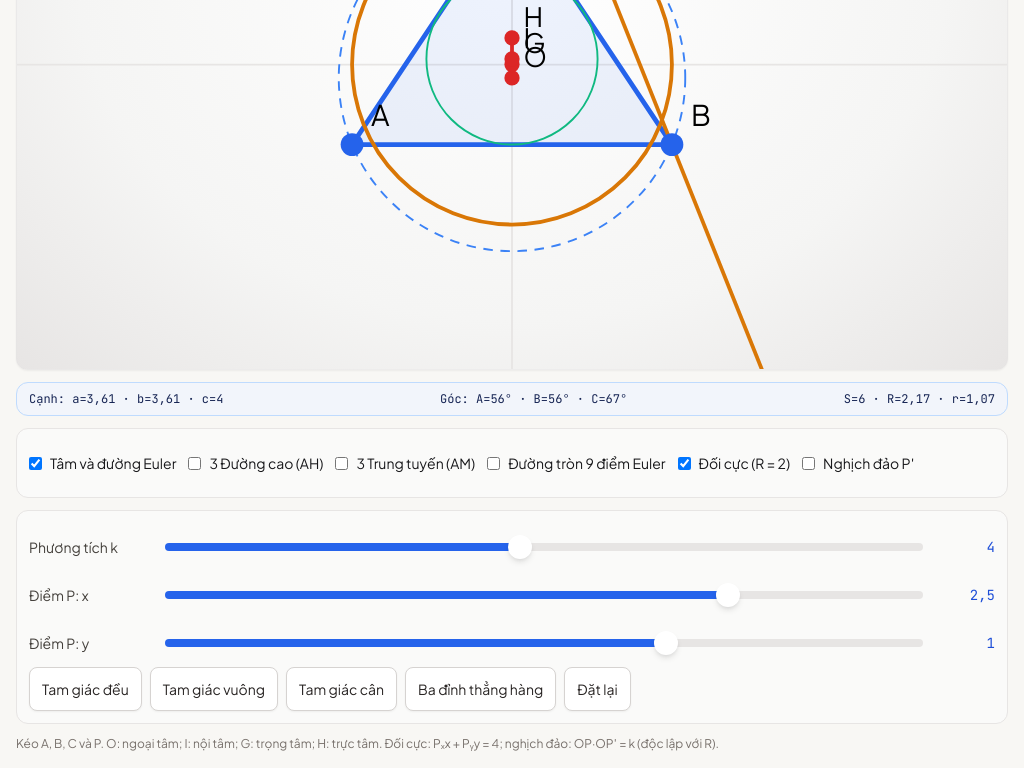
Scenario: Điều khiển và trạng thái biên › hình học động báo thẳng hàng và tâm nghịch đảo không xác định, đặt lại được
(page scrolled)
Click the button "Ba đỉnh thẳng hàng" at (481, 689), box [405,667,556,711]
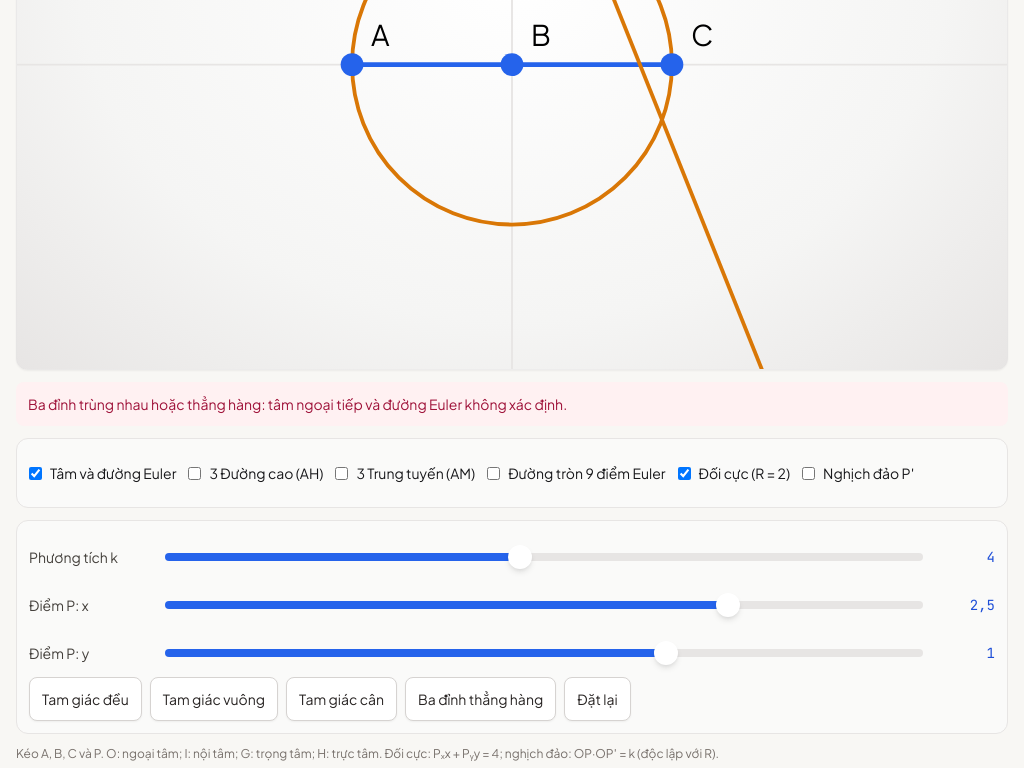
Click the button "Đặt lại" at (597, 699), box [564,677,631,721]
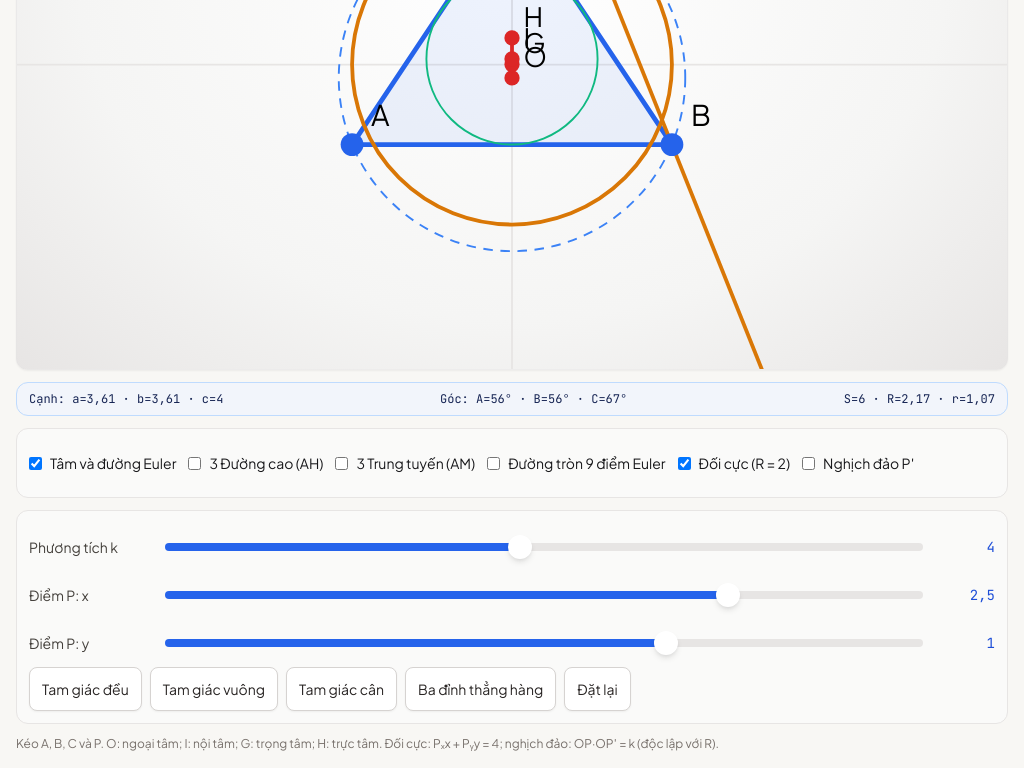
Set the slider with test id "geo-px" to "0" at (544, 595), box [165,591,923,599]
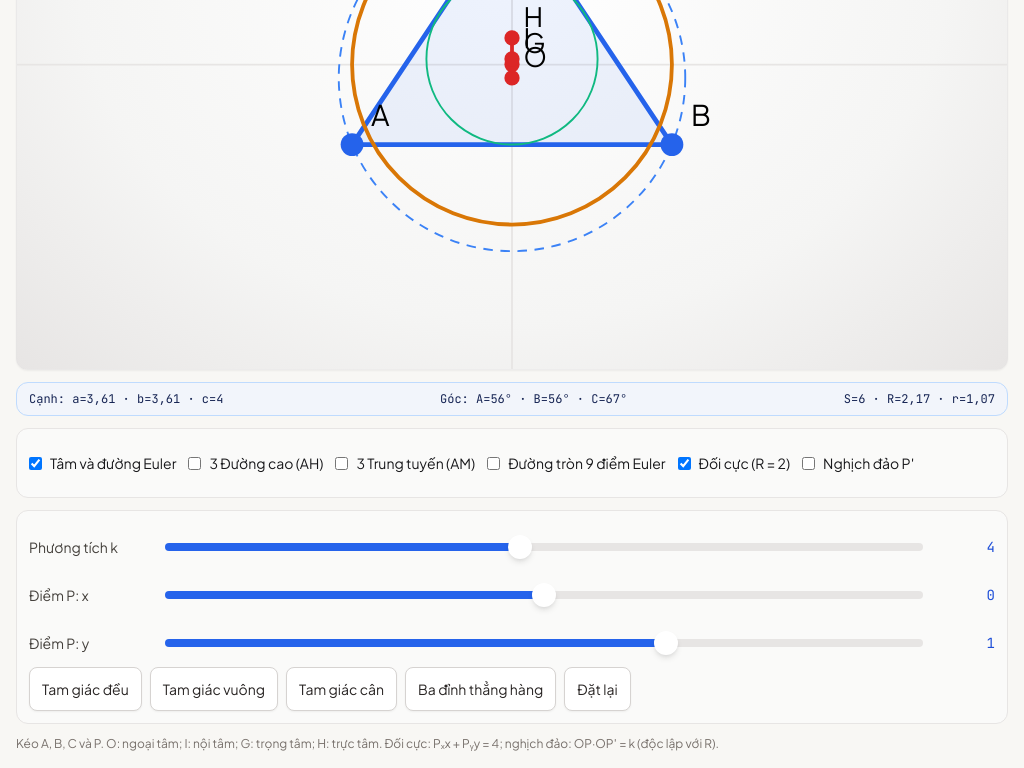
Set the slider with test id "geo-py" to "0" at (544, 643), box [165,639,923,647]
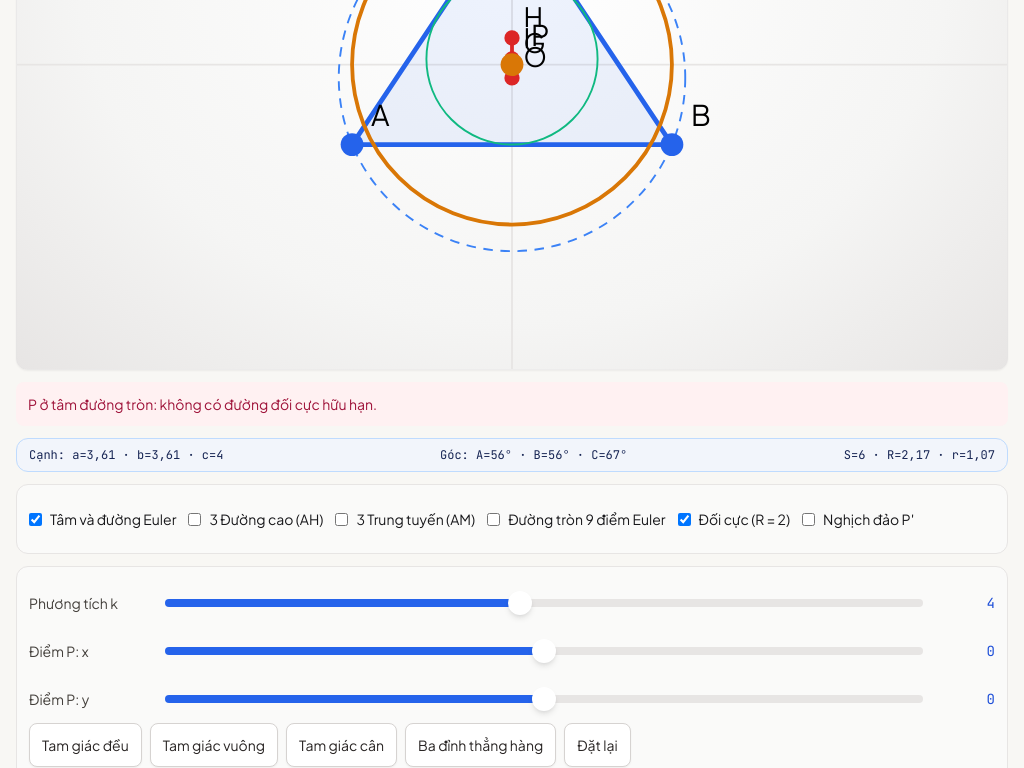
Check: the message shows "đối cực hữu hạn", box [28,395,377,413]
